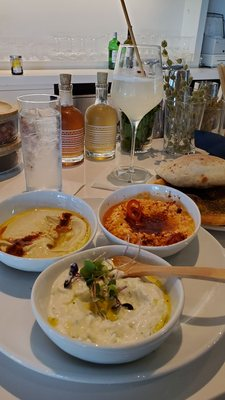pizza: (16, 93, 63, 192), (164, 96, 196, 156)
salad: (109, 255, 225, 285)
sushi: (30, 245, 185, 366), (0, 191, 98, 272), (97, 185, 202, 258)
